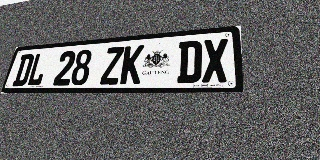2: (53, 50, 77, 86)
8: (69, 49, 94, 85)
D: (177, 40, 202, 83), (12, 54, 35, 86)
K: (119, 45, 144, 84)
L: (26, 52, 50, 86)
X: (202, 38, 228, 83)
Z: (100, 46, 124, 85)
